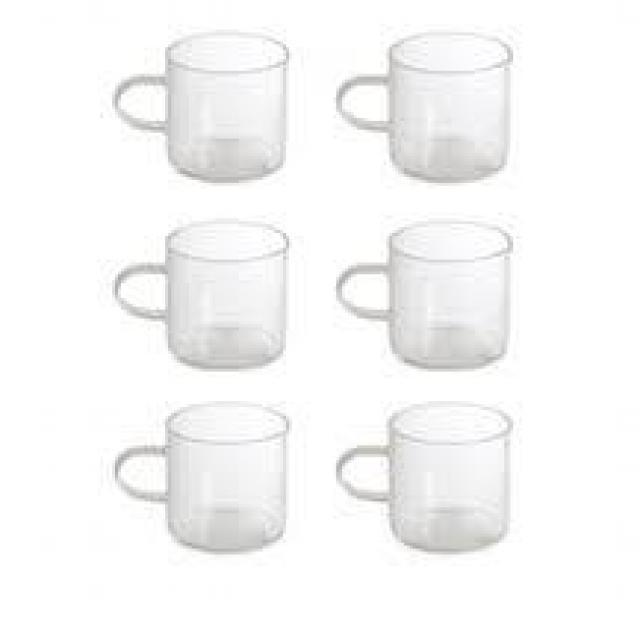glass: (330, 27, 528, 188)
